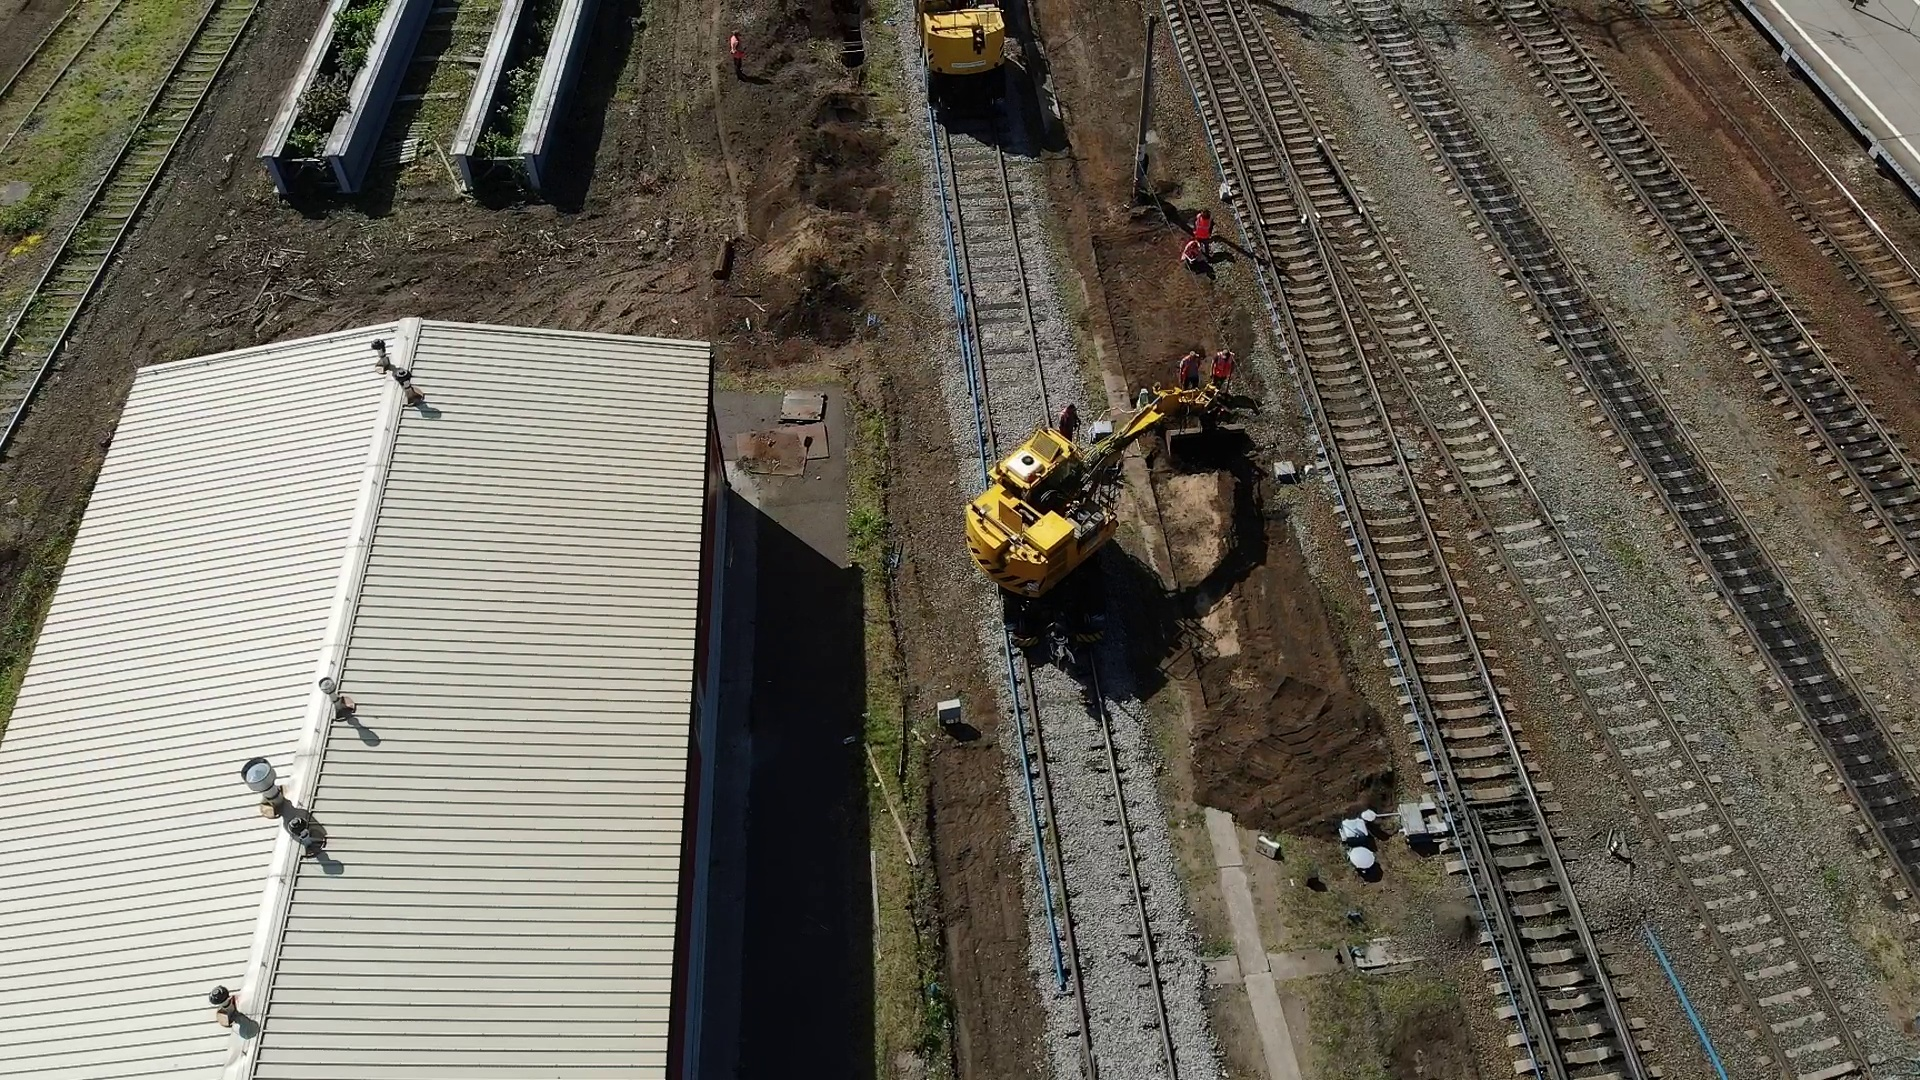kjtv: (965, 399, 1161, 657)
